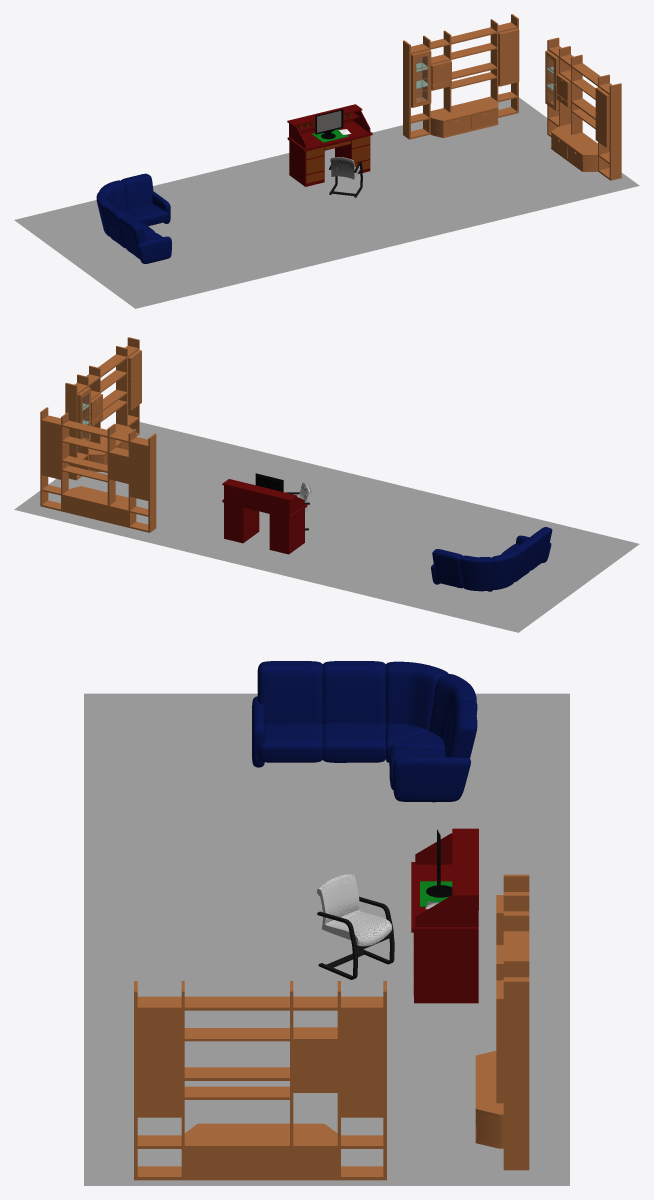
File: InteriorIglesia.obj
3 renders of one model, top to bottom at view 1: azimuth 30°, elevation 25°; view 2: azimuth 150°, elevation 25°; view 3: azimuth 270°, elevation 25°, orthographic. The views are drawn at different scales.
Parts seen in each view (by area): view 1: ground_1, mesh01_68_43, mesh01_68_72, mesh01_280_59, mesh01_280_88, 38, mesh01_226_83, mesh01_42, desktop_10, 35, left_pillar_2, mesh01_201_44 (+10 smaller); view 2: ground_1, mesh01_68_43, mesh01_68_72, mesh01_201_44, left_pillar_2, right_pillar_9, 37, mesh01_280_88, back_15, mesh01_42, 38, mesh04_70 (+8 smaller); view 3: ground_1, mesh01_201_73, mesh01_68_72, 41, 35, mesh01_226_54, right_pillar_9, mesh04_99, mesh01_228_85, mesh01_68_43, 34, mesh01_71 (+15 smaller).
Boxes of the visible parts, box(x1,y1,x2,y2) form: ground_1: box(14, 97, 639, 308); mesh01_68_43: box(411, 14, 518, 137); mesh01_68_72: box(545, 38, 612, 177); mesh01_280_59: box(430, 34, 519, 136); mesh01_280_88: box(551, 93, 606, 170); 38: box(121, 173, 168, 226); mesh01_226_83: box(610, 84, 621, 178); mesh01_42: box(403, 14, 518, 139); desktop_10: box(287, 121, 372, 151); 35: box(119, 216, 162, 259); left_pillar_2: box(289, 141, 324, 186); mesh01_201_44: box(403, 41, 410, 139); ground_1: box(14, 422, 639, 632); mesh01_68_43: box(41, 408, 148, 530); mesh01_68_72: box(75, 338, 141, 477); mesh01_201_44: box(62, 428, 156, 532); left_pillar_2: box(269, 508, 304, 554); right_pillar_9: box(224, 502, 259, 543); 37: box(459, 555, 493, 591); mesh01_280_88: box(89, 355, 141, 470); back_15: box(224, 485, 289, 516); mesh01_42: box(41, 407, 155, 532); 38: box(432, 549, 463, 588); mesh04_70: box(130, 443, 148, 498); ground_1: box(84, 693, 569, 1185); mesh01_201_73: box(184, 991, 386, 1180); mesh01_68_72: box(137, 996, 383, 1176); 41: box(322, 661, 385, 762); 35: box(257, 661, 322, 762); mesh01_226_54: box(503, 981, 529, 1166); right_pillar_9: box(414, 932, 478, 1003); mesh04_99: box(341, 1010, 383, 1113); mesh01_228_85: box(137, 1018, 181, 1105); mesh01_68_43: box(475, 876, 529, 1148); 34: box(385, 661, 448, 762); mesh01_71: box(134, 981, 386, 1180).
Size of the model in its own units: 1204 by 215 by 502.
